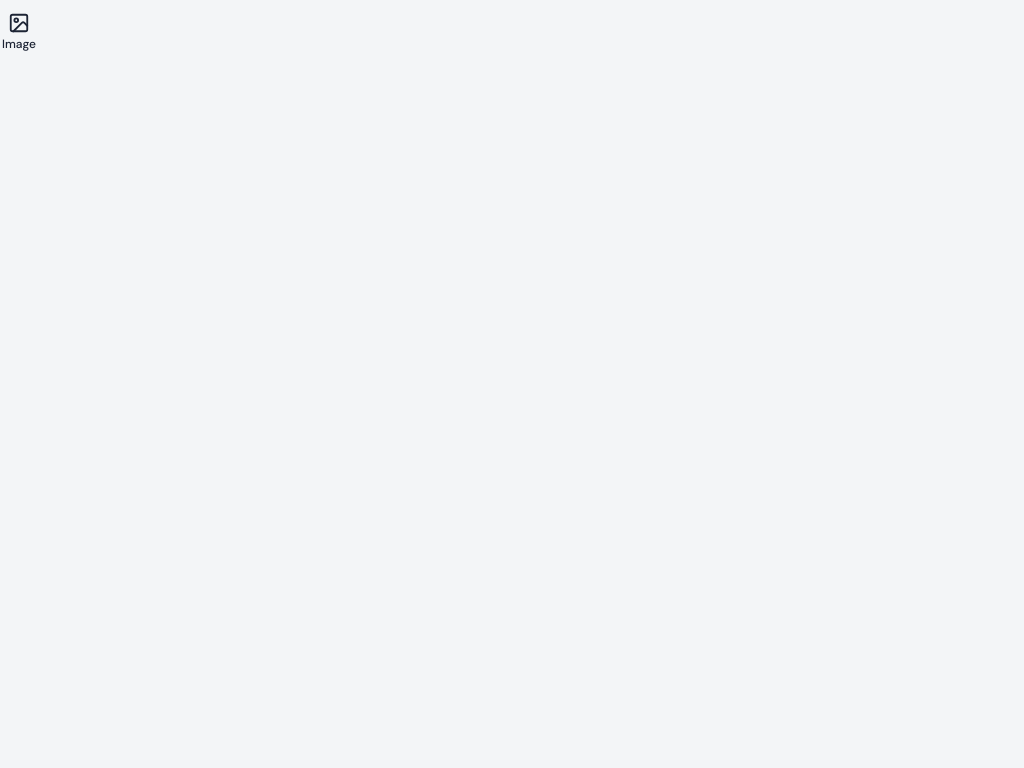
Test: ImageToolbar uploads › previews a chosen file, inserts it on confirmation and hands focus back
Later steps or results of the test are not shown.
Click the button with aria-label "Insert image" at (19, 32), box [0,0,38,64]
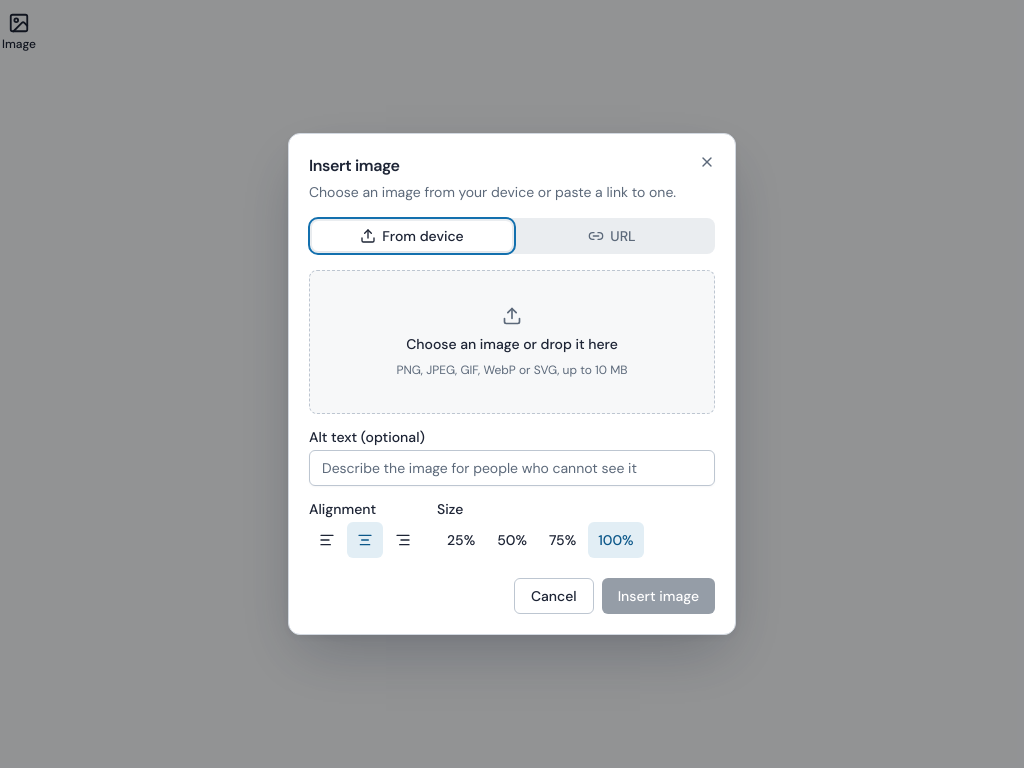
Expected: the button "Insert image" is disabled, [602,578,715,614]
